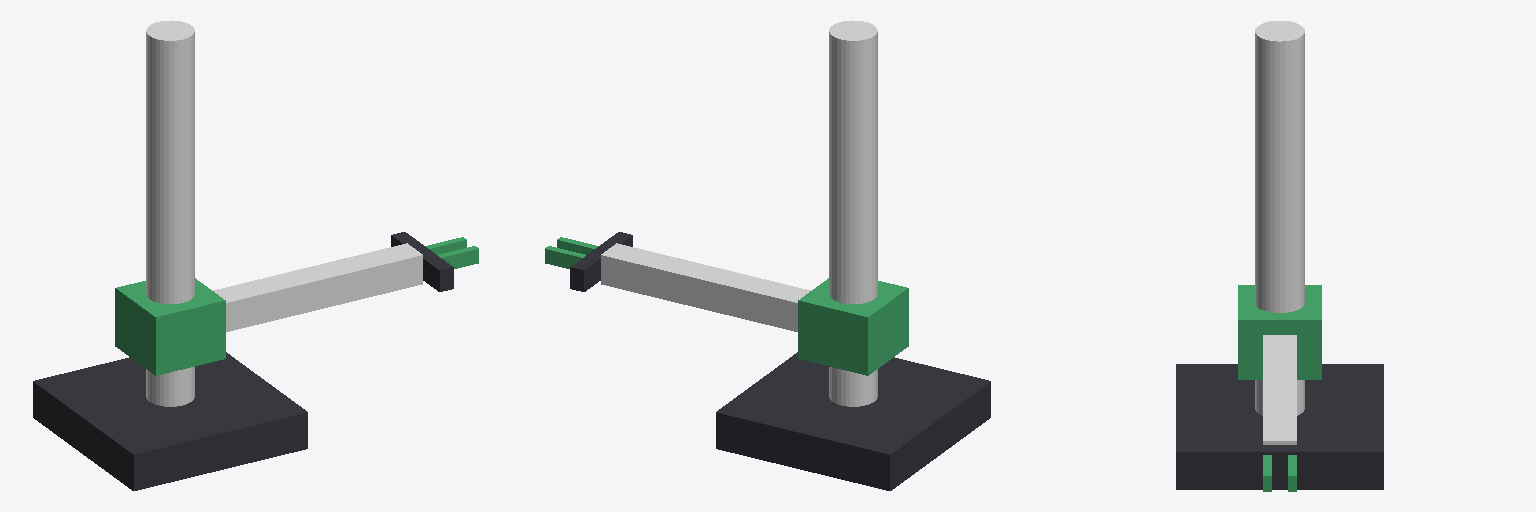
URDF robot description (simple_manipulator):
<?xml version="1.0"?>
<!-- Simple manipulator: revolute base, prismatic lift, revolute elbow and a
     two-finger prismatic gripper whose right finger mimics the left one. -->
<robot name="simple_manipulator">
  <material name="dark"><color rgba="0.25 0.25 0.28 1"/></material>
  <material name="green"><color rgba="0.30 0.70 0.45 1"/></material>
  <material name="white"><color rgba="0.90 0.90 0.90 1"/></material>

  <link name="base_link">
    <inertial><origin xyz="0 0 0.025"/><mass value="3.0"/>
      <inertia ixx="0.01" ixy="0" ixz="0" iyy="0.01" iyz="0" izz="0.015"/></inertial>
    <visual><origin xyz="0 0 0.025"/><geometry><box size="0.25 0.25 0.05"/></geometry><material name="dark"/></visual>
    <collision><origin xyz="0 0 0.025"/><geometry><box size="0.25 0.25 0.05"/></geometry></collision>
  </link>

  <link name="column_link">
    <inertial><origin xyz="0 0 0.25"/><mass value="1.5"/>
      <inertia ixx="0.03" ixy="0" ixz="0" iyy="0.03" iyz="0" izz="0.001"/></inertial>
    <visual><origin xyz="0 0 0.25"/><geometry><cylinder radius="0.03" length="0.5"/></geometry><material name="white"/></visual>
    <collision><origin xyz="0 0 0.25"/><geometry><cylinder radius="0.03" length="0.5"/></geometry></collision>
  </link>
  <joint name="base_yaw" type="revolute">
    <parent link="base_link"/><child link="column_link"/>
    <origin xyz="0 0 0.05"/><axis xyz="0 0 1"/>
    <limit lower="-3.0" upper="3.0" effort="30" velocity="1.5"/>
  </joint>

  <link name="carriage_link">
    <inertial><mass value="0.6"/>
      <inertia ixx="0.001" ixy="0" ixz="0" iyy="0.001" iyz="0" izz="0.001"/></inertial>
    <visual><geometry><box size="0.1 0.1 0.08"/></geometry><material name="green"/></visual>
    <collision><geometry><box size="0.1 0.1 0.08"/></geometry></collision>
  </link>
  <joint name="lift" type="prismatic">
    <parent link="column_link"/><child link="carriage_link"/>
    <origin xyz="0 0 0.1"/><axis xyz="0 0 1"/>
    <limit lower="0.0" upper="0.35" effort="100" velocity="0.3"/>
    <dynamics damping="1.0"/>
  </joint>

  <link name="arm_link">
    <inertial><origin xyz="0.15 0 0"/><mass value="0.5"/>
      <inertia ixx="0.0002" ixy="0" ixz="0" iyy="0.004" iyz="0" izz="0.004"/></inertial>
    <visual><origin xyz="0.15 0 0"/><geometry><box size="0.3 0.04 0.04"/></geometry><material name="white"/></visual>
    <collision><origin xyz="0.17 0 0"/><geometry><box size="0.26 0.04 0.04"/></geometry></collision>
  </link>
  <joint name="elbow" type="revolute">
    <parent link="carriage_link"/><child link="arm_link"/>
    <origin xyz="0.05 0 0"/><axis xyz="0 0 1"/>
    <limit lower="-1.8" upper="1.8" effort="10" velocity="2.0"/>
  </joint>

  <link name="gripper_link">
    <inertial><mass value="0.1"/>
      <inertia ixx="0.0001" ixy="0" ixz="0" iyy="0.0001" iyz="0" izz="0.0001"/></inertial>
    <visual><geometry><box size="0.02 0.12 0.03"/></geometry><material name="dark"/></visual>
  </link>
  <joint name="gripper_mount" type="fixed">
    <parent link="arm_link"/><child link="gripper_link"/>
    <origin xyz="0.31 0 0"/>
  </joint>

  <link name="left_finger">
    <inertial><origin xyz="0.03 0 0"/><mass value="0.03"/>
      <inertia ixx="0.00001" ixy="0" ixz="0" iyy="0.00001" iyz="0" izz="0.00001"/></inertial>
    <visual><origin xyz="0.03 0 0"/><geometry><box size="0.06 0.01 0.02"/></geometry><material name="green"/></visual>
    <collision><origin xyz="0.03 0 0"/><geometry><box size="0.06 0.01 0.02"/></geometry></collision>
  </link>
  <joint name="left_finger_joint" type="prismatic">
    <parent link="gripper_link"/><child link="left_finger"/>
    <origin xyz="0.01 0.015 0"/><axis xyz="0 1 0"/>
    <limit lower="0.0" upper="0.04" effort="20" velocity="0.1"/>
  </joint>

  <link name="right_finger">
    <inertial><origin xyz="0.03 0 0"/><mass value="0.03"/>
      <inertia ixx="0.00001" ixy="0" ixz="0" iyy="0.00001" iyz="0" izz="0.00001"/></inertial>
    <visual><origin xyz="0.03 0 0"/><geometry><box size="0.06 0.01 0.02"/></geometry><material name="green"/></visual>
    <collision><origin xyz="0.03 0 0"/><geometry><box size="0.06 0.01 0.02"/></geometry></collision>
  </link>
  <joint name="right_finger_joint" type="prismatic">
    <parent link="gripper_link"/><child link="right_finger"/>
    <origin xyz="0.01 -0.015 0"/><axis xyz="0 -1 0"/>
    <limit lower="0.0" upper="0.04" effort="20" velocity="0.1"/>
    <mimic joint="left_finger_joint" multiplier="1.0" offset="0.0"/>
  </joint>
</robot>

--- Render facts (derived) ---
The picture shows the robot from 3 angles, left to right: view 1: azimuth 30°, elevation 25°; view 2: azimuth 150°, elevation 25°; view 3: azimuth 270°, elevation 25°; orthographic projection.
Robot: simple_manipulator — 7 links, 6 joints (2 revolute, 3 prismatic, 1 fixed); root link base_link; default pose: every joint at zero.
Visible links, largest first — view 1: base_link, column_link, arm_link, carriage_link, gripper_link, right_finger; view 2: base_link, column_link, arm_link, carriage_link, gripper_link, left_finger; view 3: base_link, column_link, carriage_link, arm_link, gripper_link.
Link boxes in pixels (bbox=[...]): base_link: bbox=[33, 352, 307, 490]; column_link: bbox=[146, 20, 194, 406]; arm_link: bbox=[213, 243, 422, 331]; carriage_link: bbox=[115, 278, 225, 375]; gripper_link: bbox=[391, 232, 453, 291]; right_finger: bbox=[438, 246, 478, 268]; base_link: bbox=[716, 352, 990, 490]; column_link: bbox=[829, 20, 877, 406]; arm_link: bbox=[601, 243, 810, 331]; carriage_link: bbox=[798, 278, 908, 375]; gripper_link: bbox=[570, 232, 632, 291]; left_finger: bbox=[545, 246, 585, 268]; base_link: bbox=[1176, 364, 1383, 489]; column_link: bbox=[1255, 21, 1304, 415]; carriage_link: bbox=[1238, 285, 1321, 379]; arm_link: bbox=[1263, 335, 1296, 444]; gripper_link: bbox=[1230, 445, 1329, 473].
Size in the robot's own frame: 0.555 by 0.25 by 0.55 metres.
Geometry: primitives only (box / cylinder / sphere), no mesh files.
